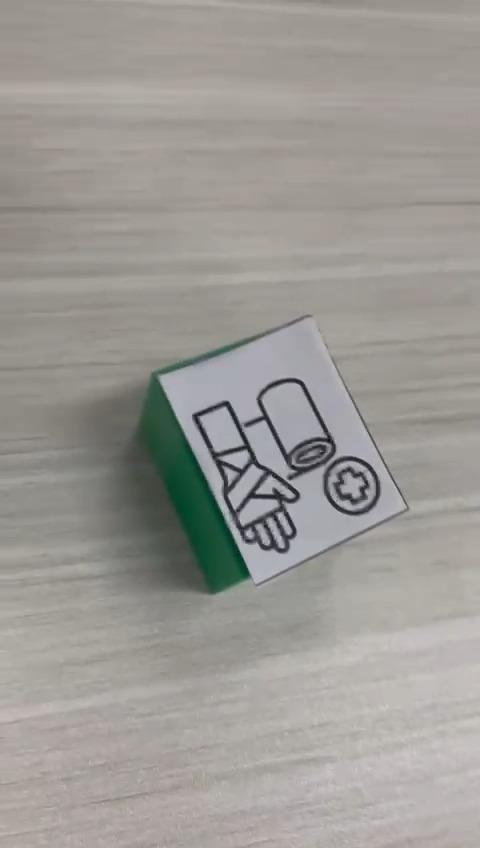Bandages: (143, 314, 410, 596)
